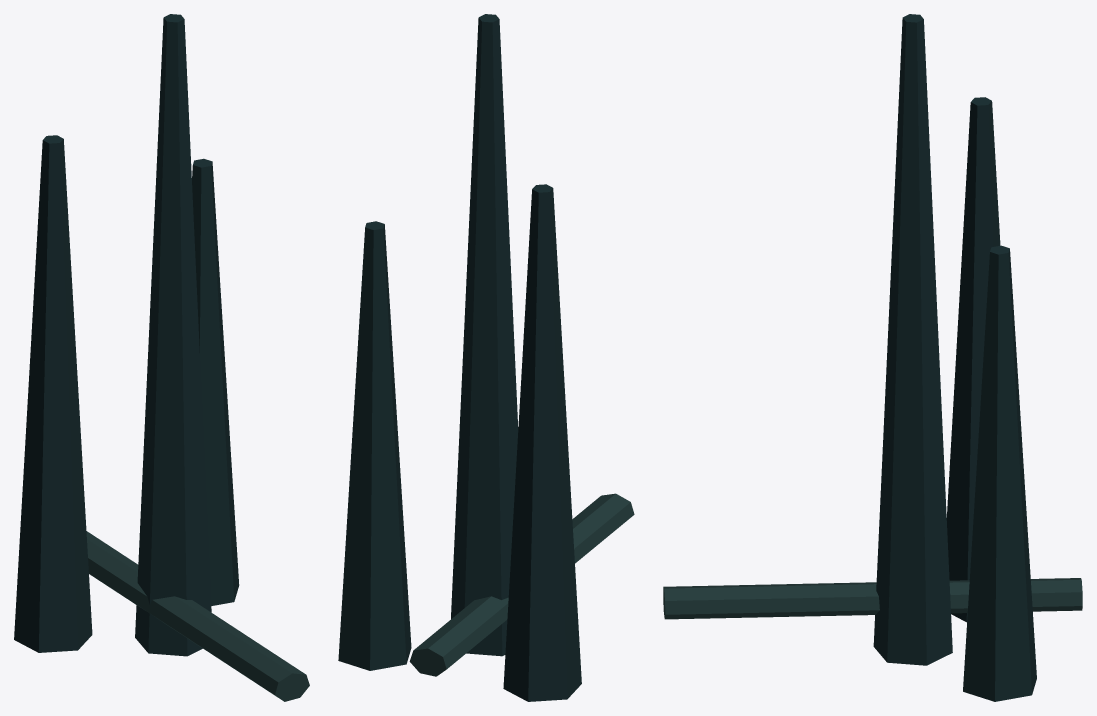
File: df_v2_dead_tree_spike_a.glb
3 renders of one model, left to right at view 1: azimuth 30°, elevation 25°; view 2: azimuth 150°, elevation 25°; view 3: azimuth 270°, elevation 25°, orthographic.
Parts seen in each view (by area): view 1: dead_black_spike_1, dead_black_spike_0, dead_black_spike_2, spike_root_barrier; view 2: dead_black_spike_1, dead_black_spike_0, dead_black_spike_2, spike_root_barrier; view 3: dead_black_spike_1, dead_black_spike_2, dead_black_spike_0, spike_root_barrier.
Boxes of the visible parts, x1,y1,x2,y2 form: dead_black_spike_1: [135, 14, 211, 656]; dead_black_spike_0: [14, 135, 92, 652]; dead_black_spike_2: [192, 158, 239, 605]; spike_root_barrier: [86, 531, 309, 701]; dead_black_spike_1: [451, 14, 518, 656]; dead_black_spike_0: [503, 184, 581, 701]; dead_black_spike_2: [338, 221, 411, 670]; spike_root_barrier: [409, 493, 634, 676]; dead_black_spike_1: [873, 14, 952, 665]; dead_black_spike_2: [963, 245, 1036, 701]; dead_black_spike_0: [946, 97, 1000, 622]; spike_root_barrier: [663, 578, 1082, 619].
Bounding box in the file's own units: 0.85 × 2.25 × 1.36.
